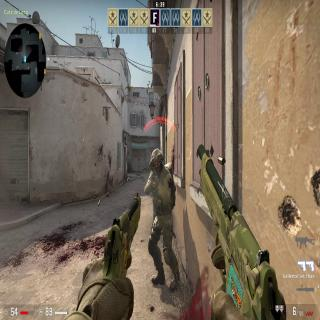T-Body: (147, 148, 174, 292)
T-Head: (150, 148, 164, 174)
